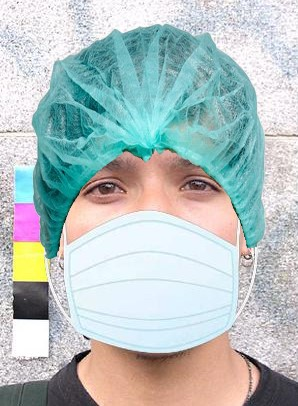with_mask_and_cap: (35, 28, 261, 353)
